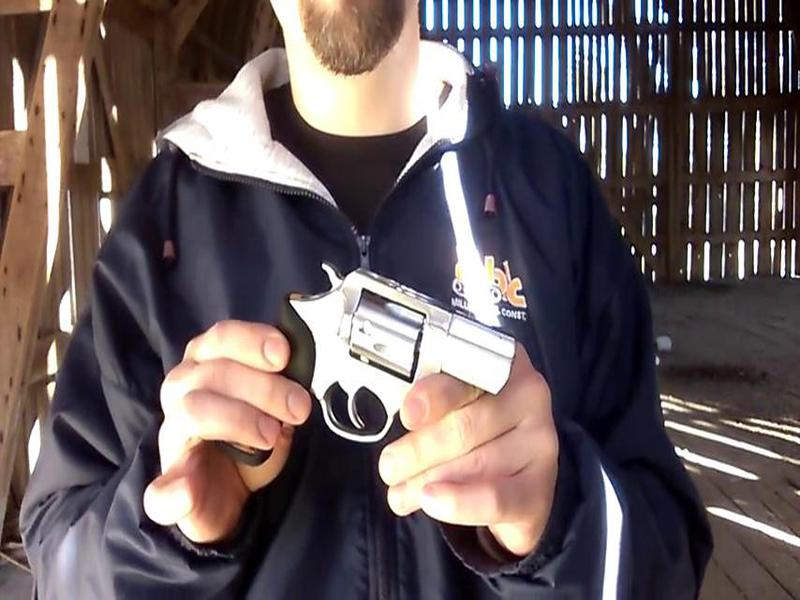Revolver: (266, 239, 527, 459)
